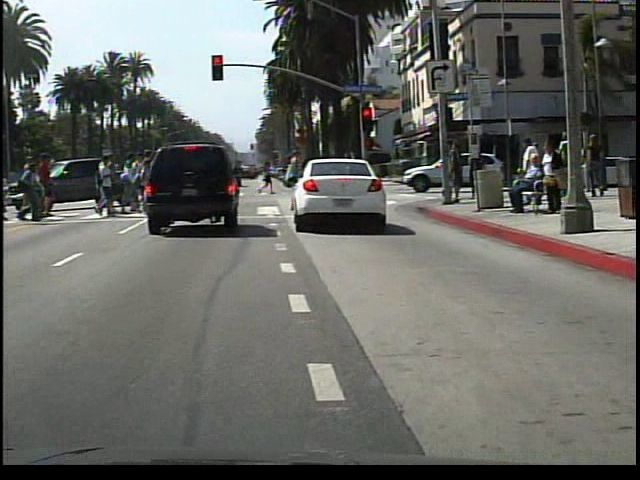person: (509, 154, 551, 215), (540, 138, 571, 217), (284, 148, 317, 214)
